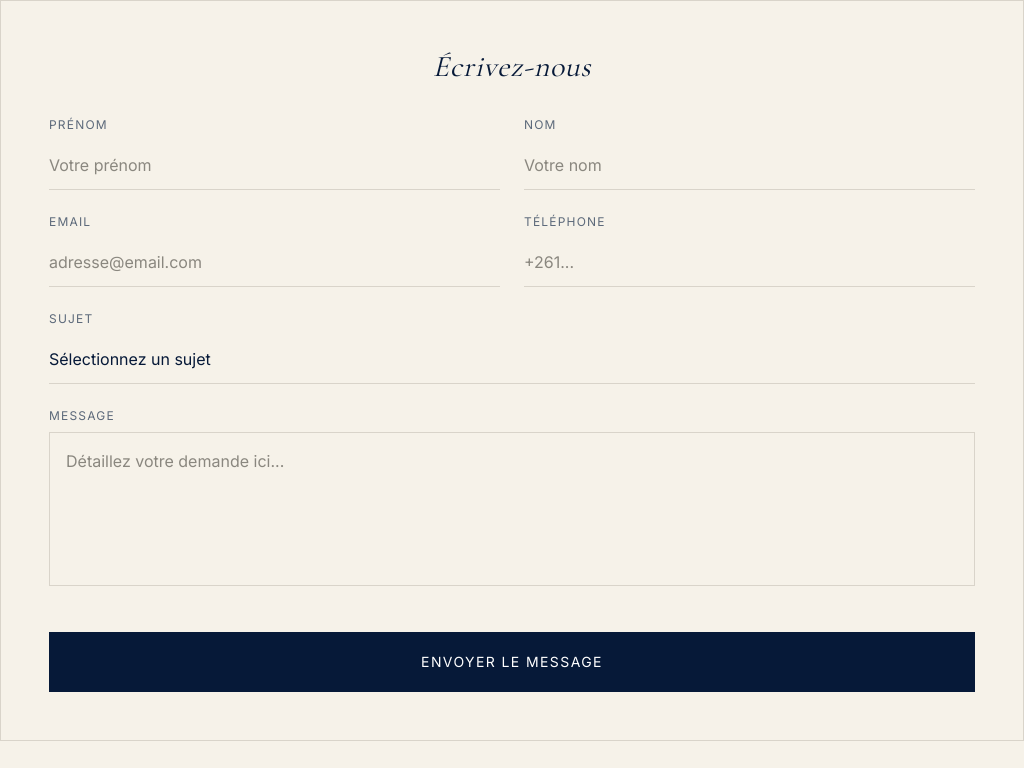
Test case: ContactForm › disables the submit button and shows "Envoi…" while the request is pending
Type "Nirina" into the field labelled "Prénom" at (274, 166), box [49,141,500,190]
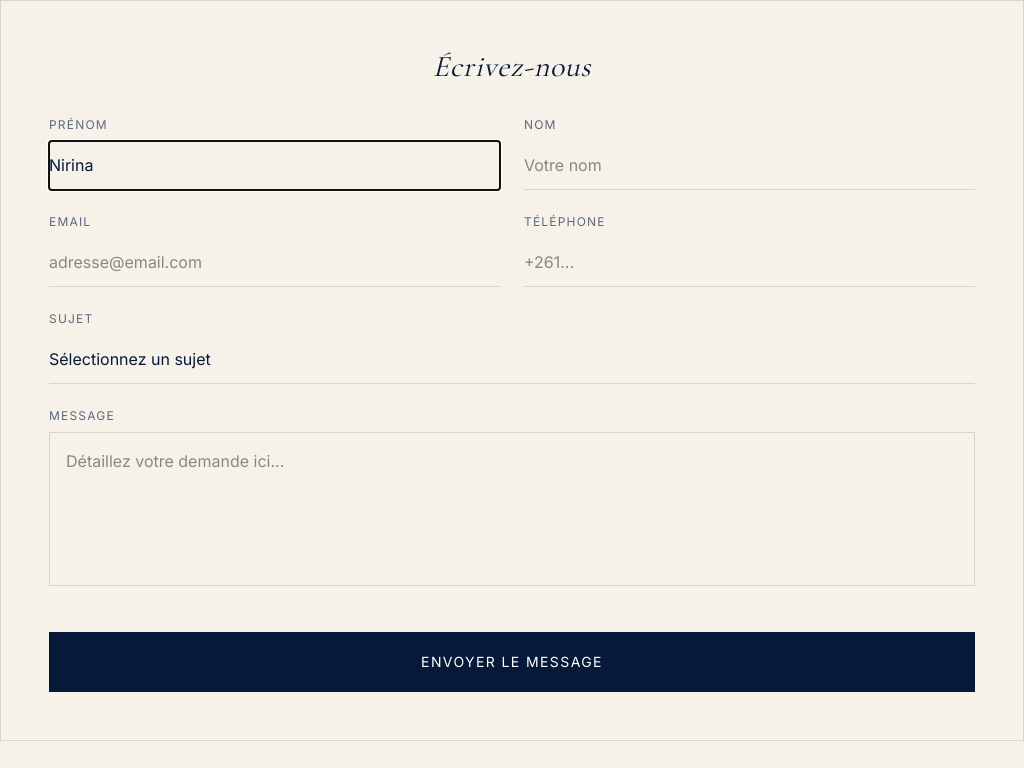
Type "Rakoto" into the field labelled "Nom" at (750, 166), box [524,141,975,190]
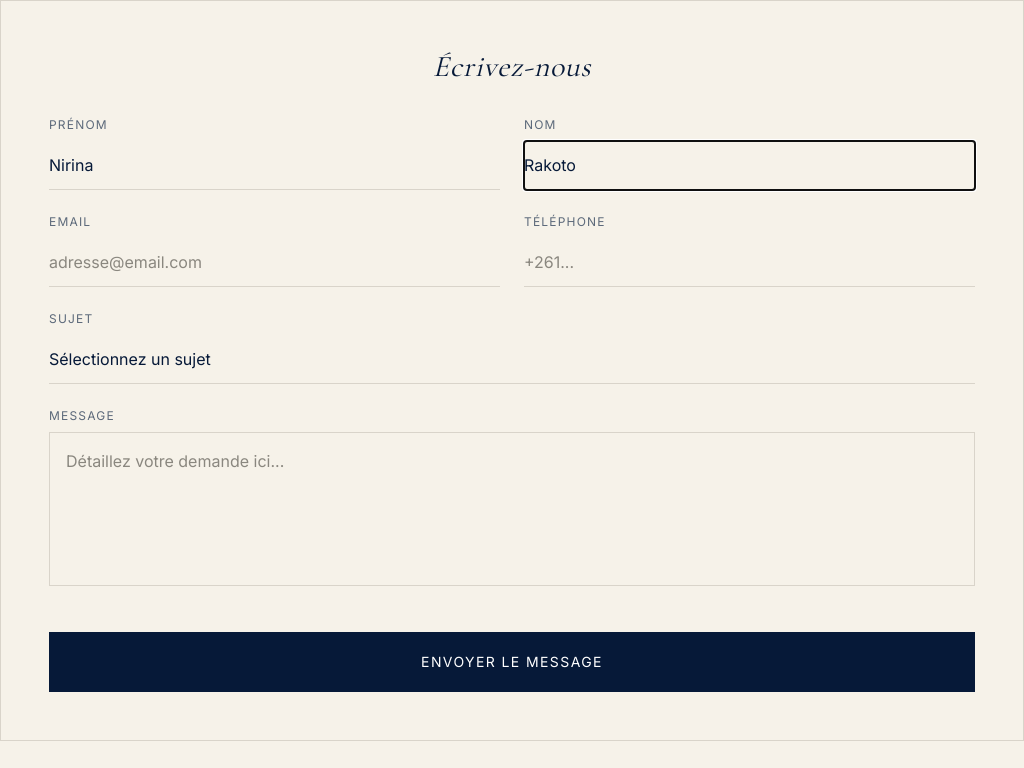
Type "nirina@example.com" into the field labelled "Email" at (274, 262), box [49,238,500,287]
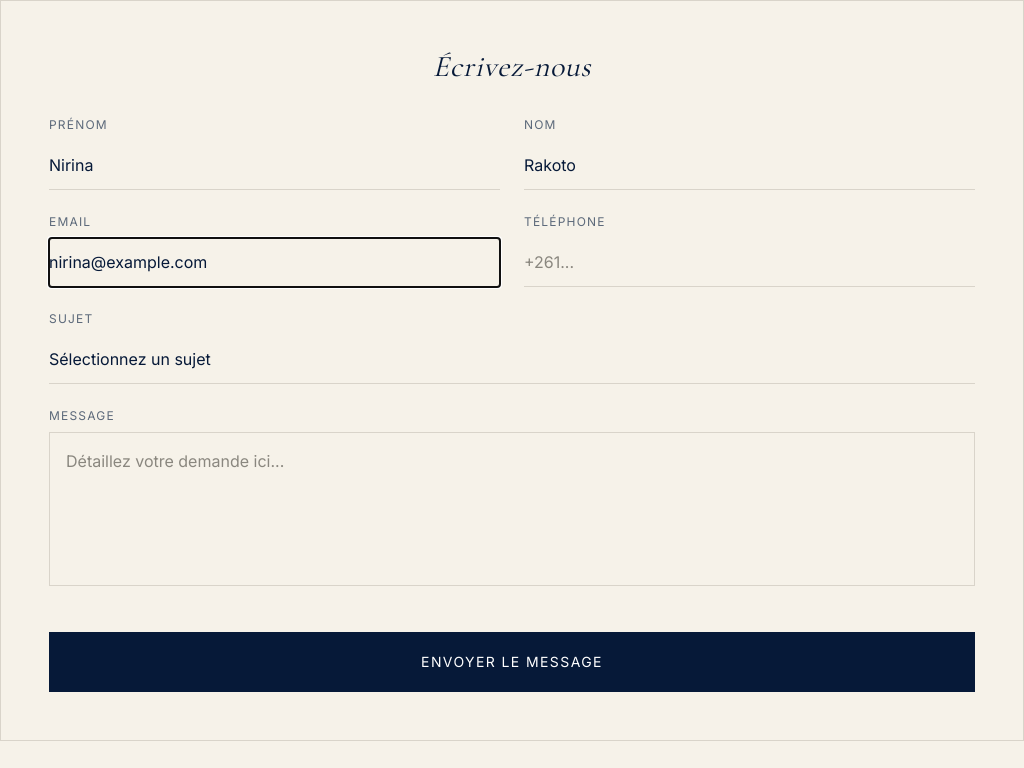
Select "Question générale" in the dropdown labelled "Sujet" at (512, 360), box [49,335,975,384]
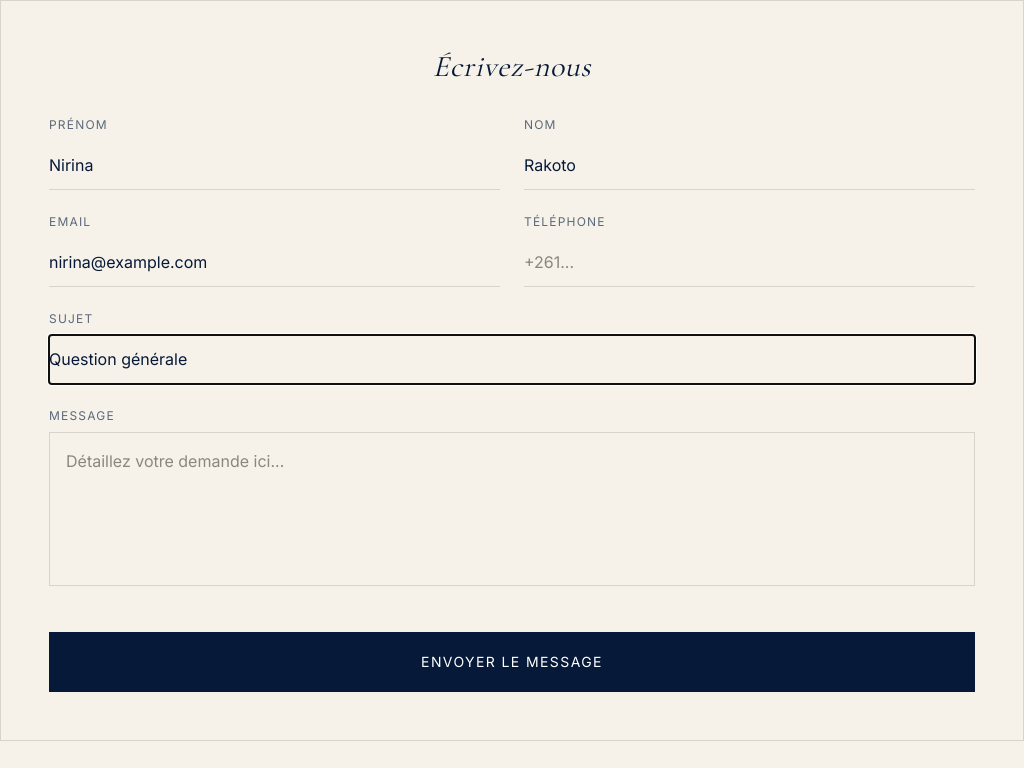
Type "Bonjour, je souhaiterais un rendez-vous." into the text box labelled "Message" at (512, 509), box [49,432,975,586]
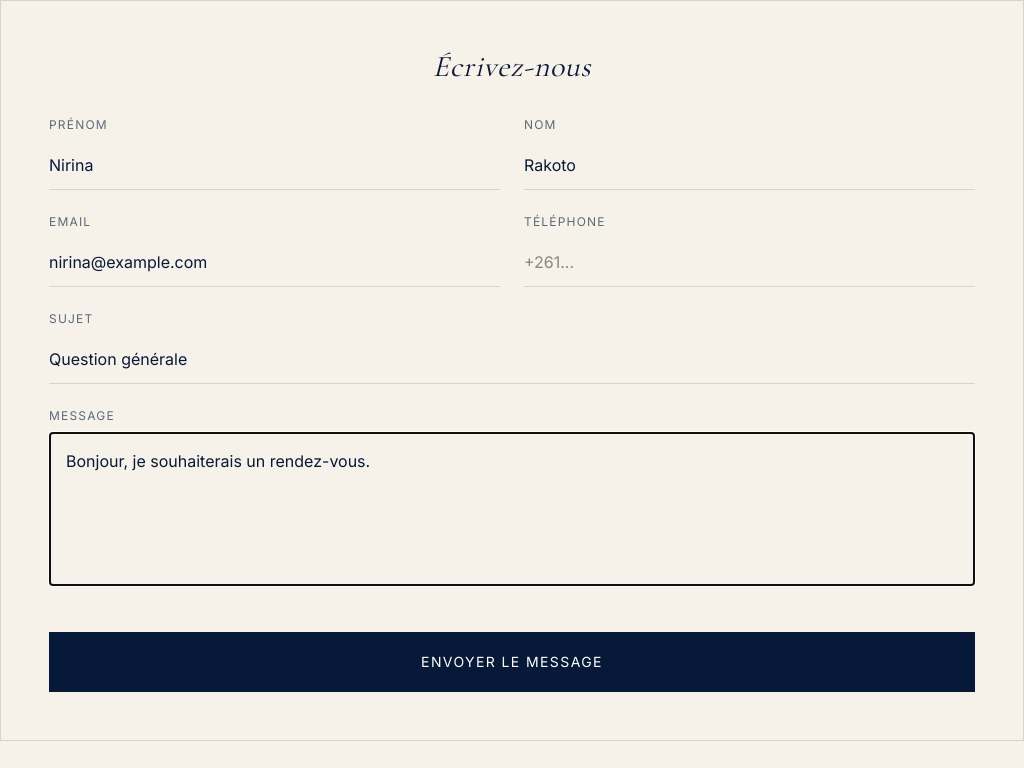
Click the button "Envoyer le message" at (512, 662), box [49,632,975,692]
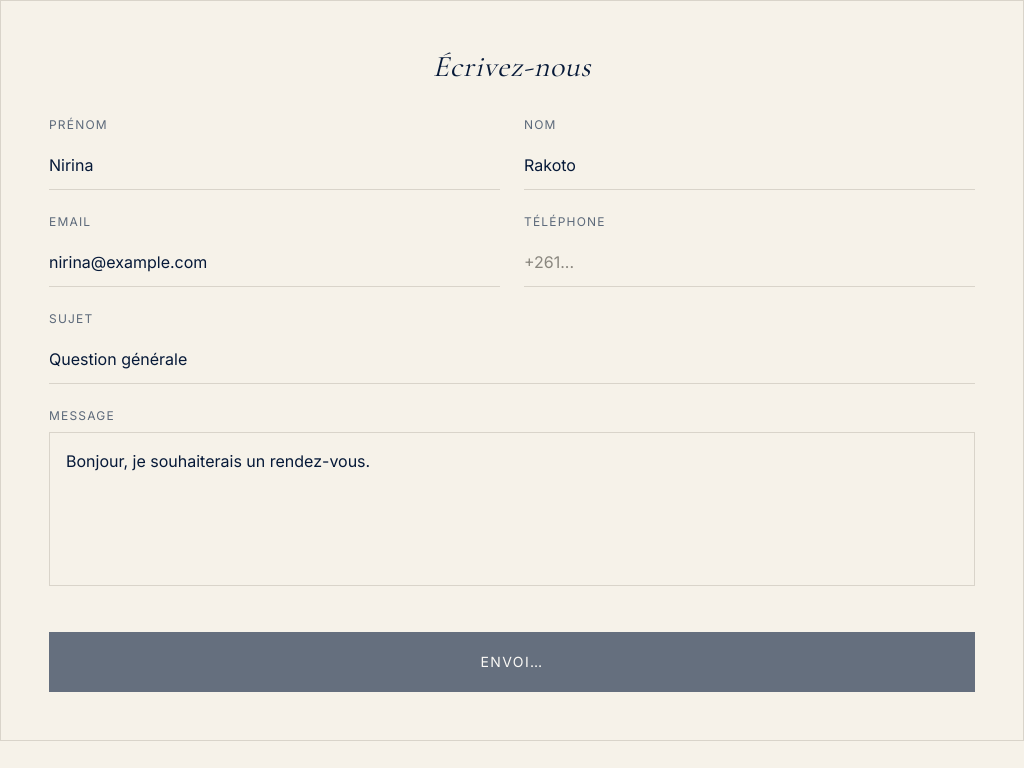
Now the button "Envoi…" is disabled, box [49,632,975,692]
